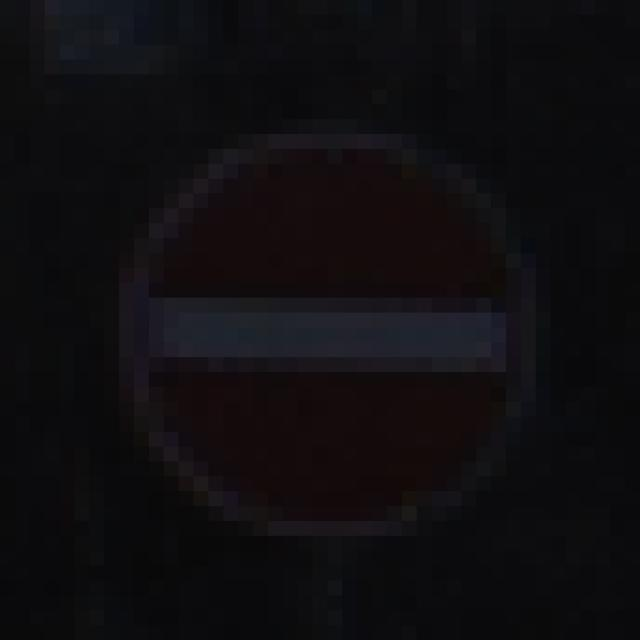No Entry: (90, 90, 567, 567)
